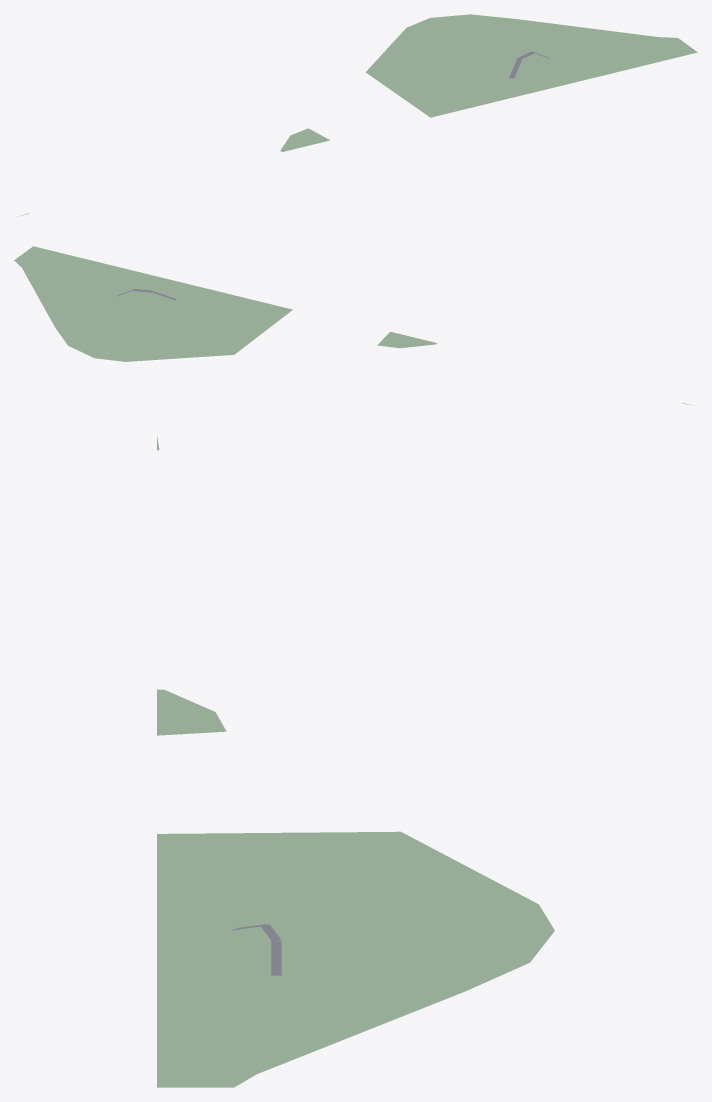
The model's file is 121_123_mid.glb.
The picture shows the model from 3 angles, top to bottom: view 1: azimuth 30°, elevation 25°; view 2: azimuth 150°, elevation 25°; view 3: azimuth 270°, elevation 25°; orthographic projection. The views are drawn at different scales.
Bounding box in the file's own units: 442 × 6.35 × 115.
